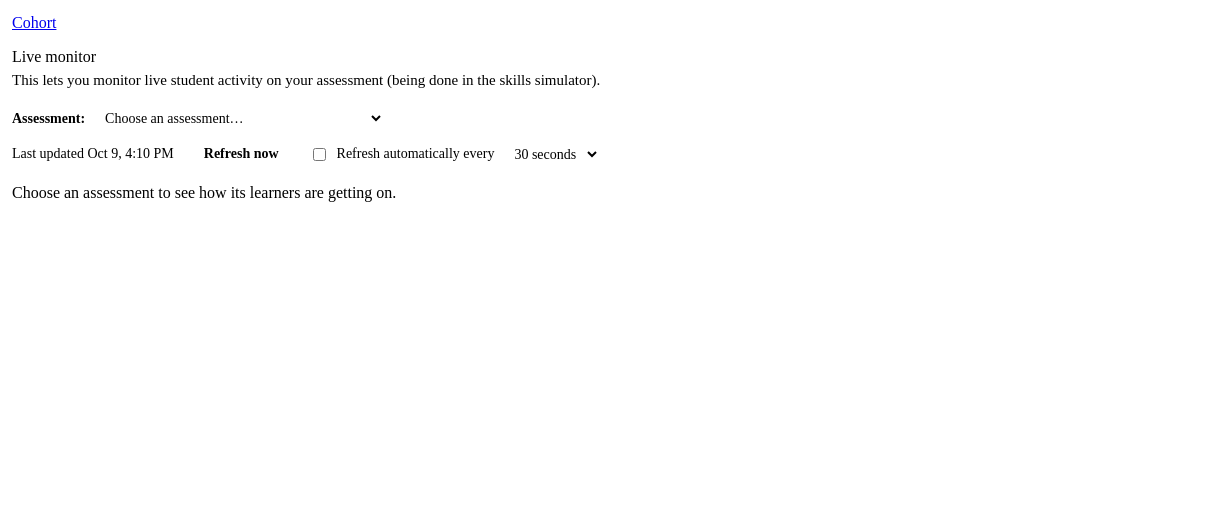
Test case: MonitorPage › lists a delivery scheduled outside the course as its own choice, with a note
Select "Side bank (outside the course) (1 in progress)" in the dropdown labelled "Assessment:": (239, 118) 93,105 -> 384,132
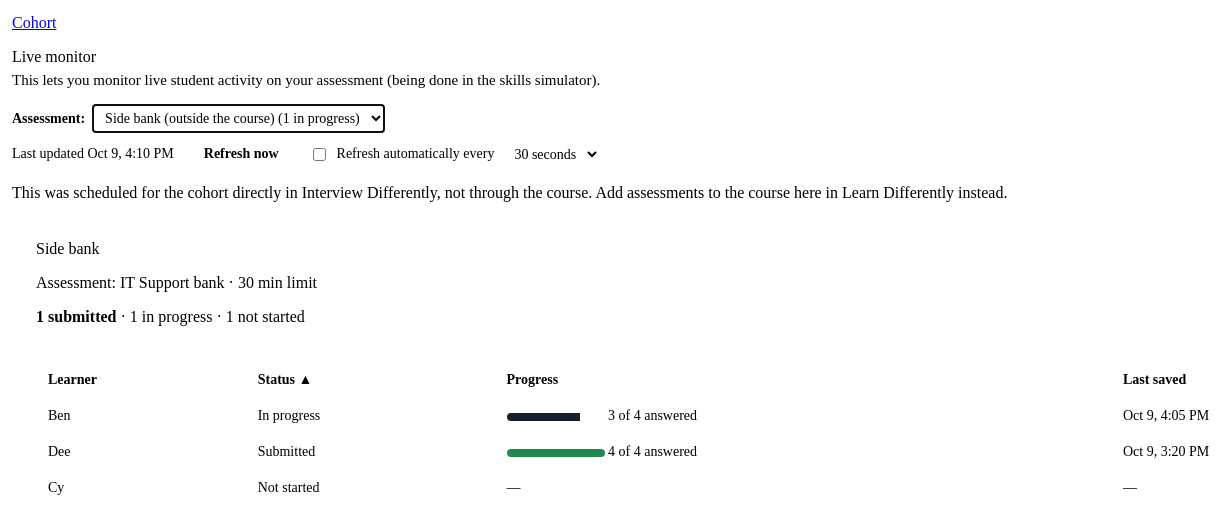
Check: the text "scheduled for the cohort directly in Interview Differently" is shown, box 12,184 -> 1007,201
